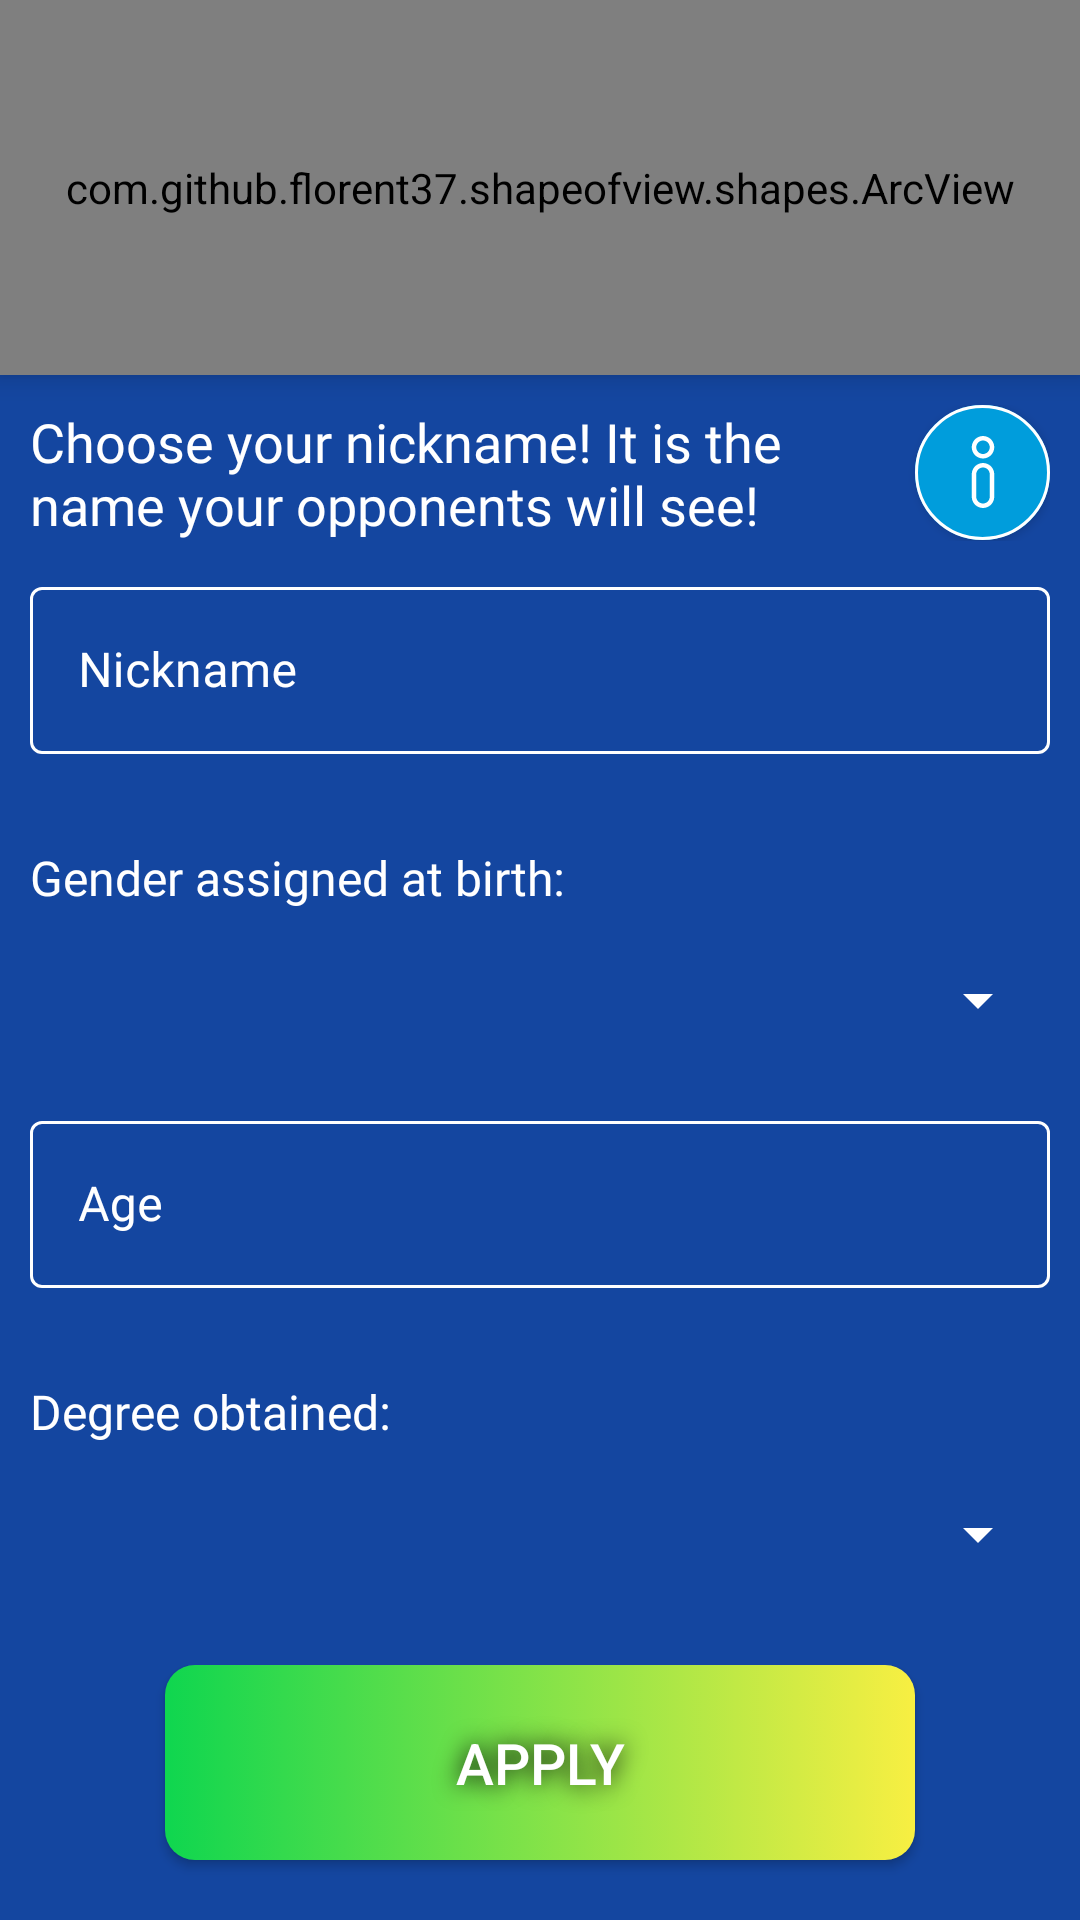

Where to tap for icons on this 1080px×1920px app screen, as (x=x, y=y):
info: (x=982, y=472)
